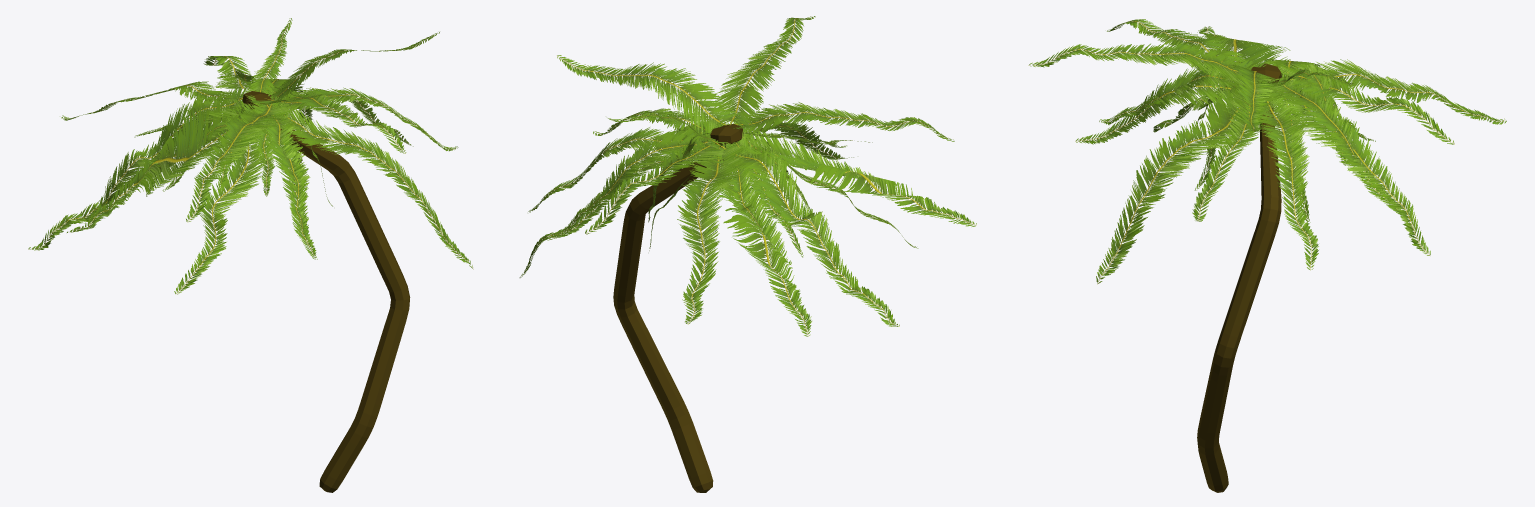
The model's file is Palm Tree 1.fbx.
3 renders of one model, left to right at view 1: azimuth 30°, elevation 25°; view 2: azimuth 150°, elevation 25°; view 3: azimuth 270°, elevation 25°, orthographic.
Visible parts, largest first — view 1: Palm Tree 1; view 2: Palm Tree 1; view 3: Palm Tree 1.
Part boxes in pixels (x1,y1,x2,y2): Palm Tree 1: [28, 18, 473, 492]; Palm Tree 1: [519, 16, 976, 492]; Palm Tree 1: [1028, 19, 1506, 492].
Bounding box in the file's own units: 330 × 327 × 341.
